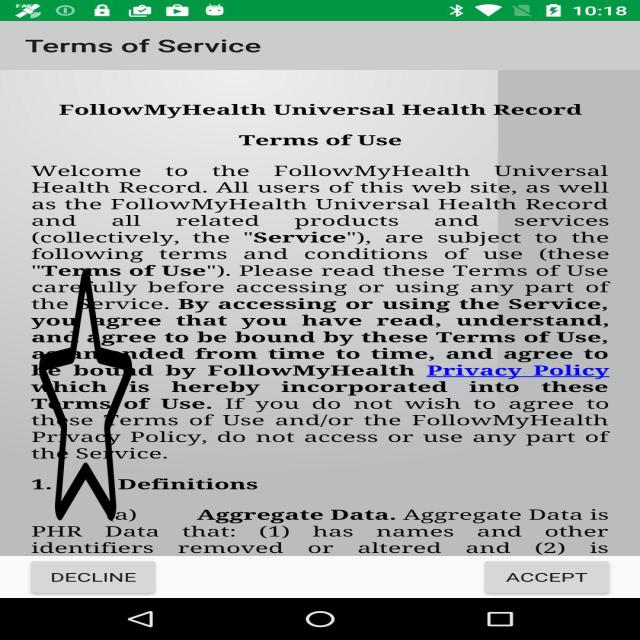forced continuity: (39, 263, 132, 526)
